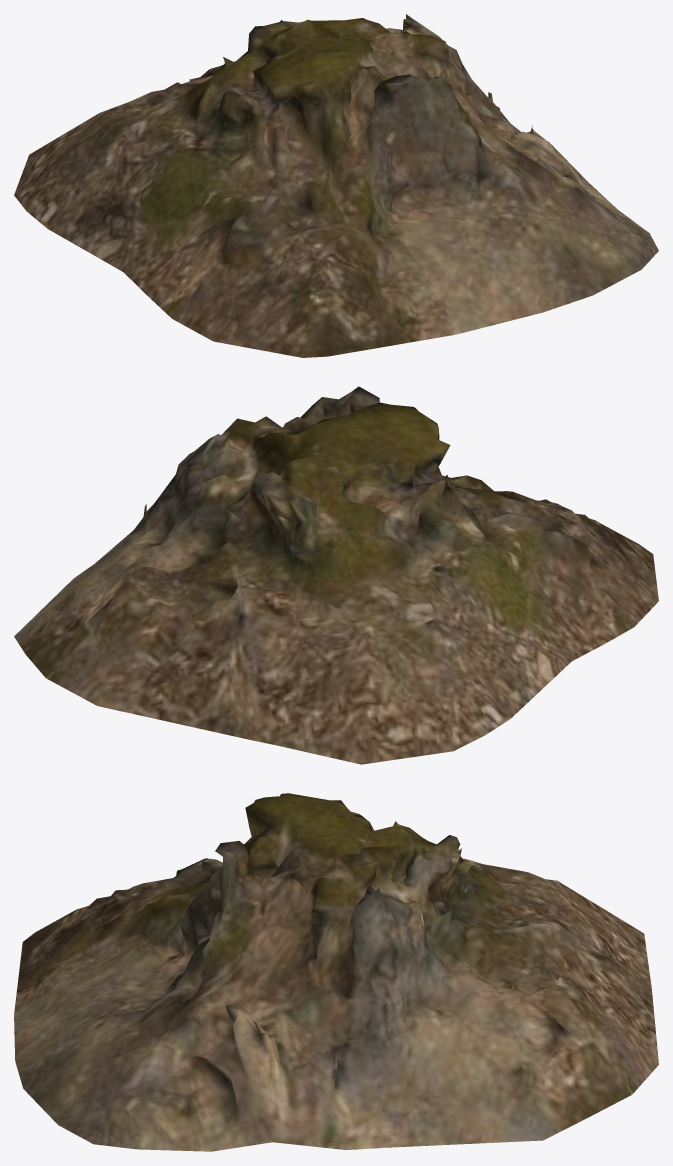
Rendered from tree_stump.glb.
3 views of the same model, one above another, from view 1: azimuth 30°, elevation 25°; view 2: azimuth 150°, elevation 25°; view 3: azimuth 270°, elevation 25° (orthographic). The views are drawn at different scales.
Parts seen in each view (by area): view 1: tree_stump_01; view 2: tree_stump_01; view 3: tree_stump_01.
Boxes of the visible parts, bbox=[...] form: tree_stump_01: bbox=[14, 14, 658, 357]; tree_stump_01: bbox=[14, 386, 658, 764]; tree_stump_01: bbox=[14, 793, 658, 1151].
Size of the model in its own units: 1.43 by 0.5646 by 1.59.
1 material, 1 textured.
